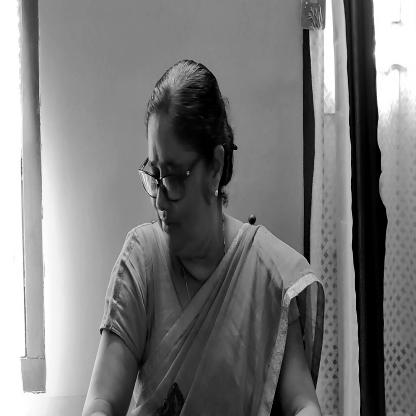Distracted: (127, 60, 234, 270)
